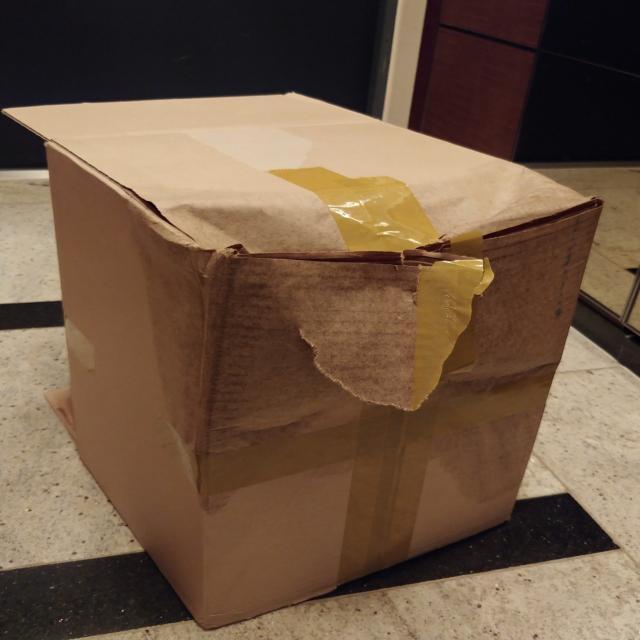wet: (150, 215, 488, 483)
